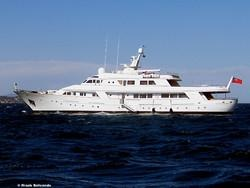yacht: (12, 42, 247, 112)
